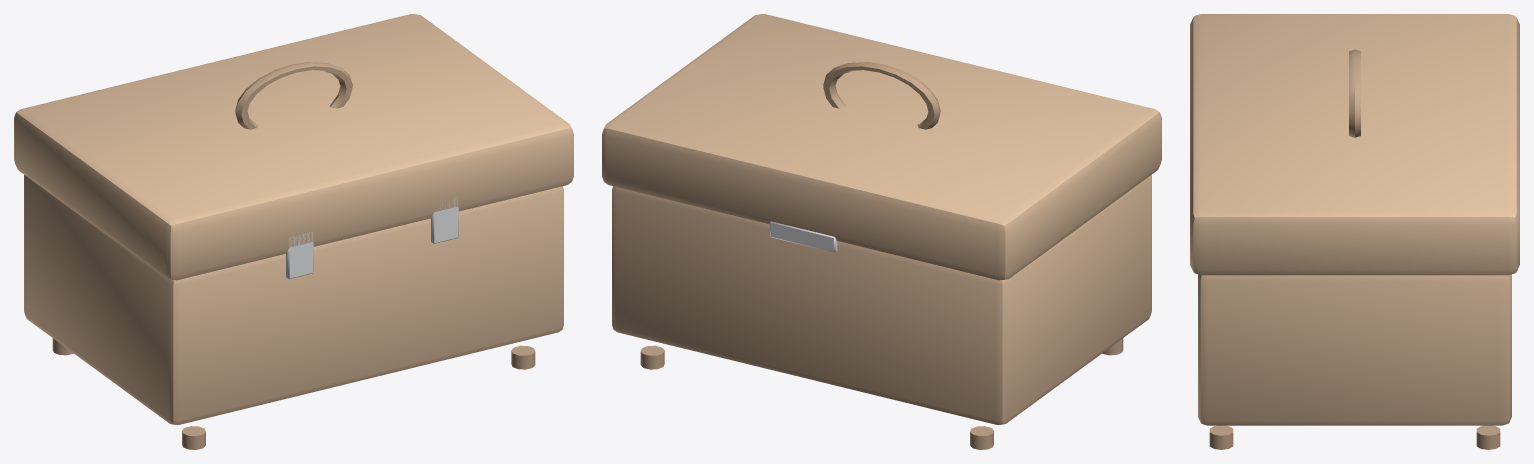
The model's file is sewing_box.glb.
3 renders of one model, left to right at view 1: azimuth 30°, elevation 25°; view 2: azimuth 150°, elevation 25°; view 3: azimuth 270°, elevation 25°, orthographic. The views are drawn at different scales.
Visible parts, largest first — view 1: sewing_box; view 2: sewing_box; view 3: sewing_box.
Part boxes in pixels (<box>): sewing_box: <box>14,14,573,449</box>; sewing_box: <box>602,14,1161,449</box>; sewing_box: <box>1190,14,1519,449</box>.
Size of the model in its own units: 0.31 by 0.212 by 0.21.
